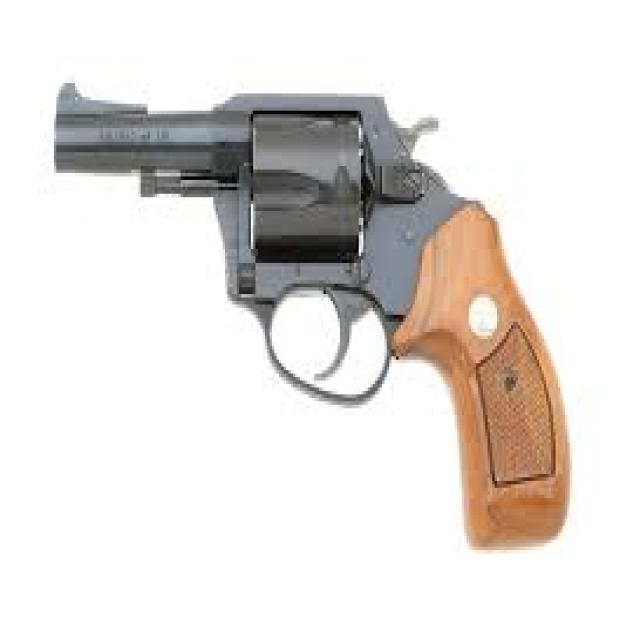Gun: (42, 58, 586, 578)
